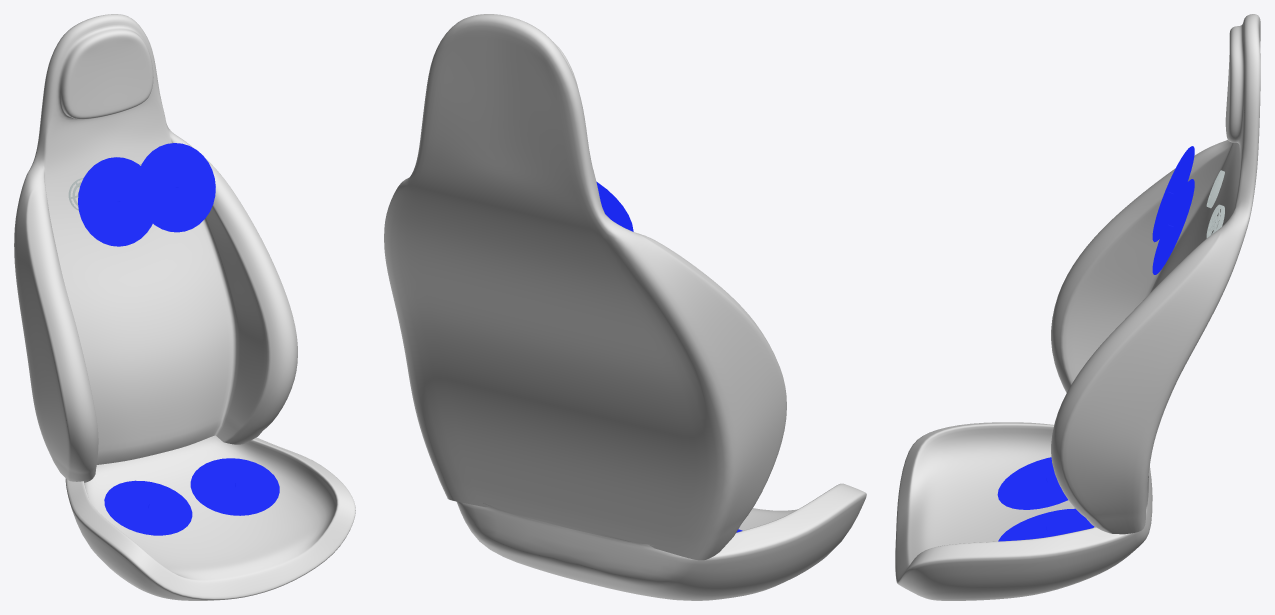
3 renders of one model, left to right at view 1: azimuth 30°, elevation 25°; view 2: azimuth 150°, elevation 25°; view 3: azimuth 270°, elevation 25°, orthographic. The views are drawn at different scales.
Parts seen in each view (by area): view 1: Plane001, 001, 圆环.004, 圆环.002, 圆环.008, 圆环.006, 圆环.003, 圆环.005; view 2: Plane001, 001, 圆环.002; view 3: Plane001, 001, 圆环.006, 圆环.008, 圆环.002, 圆环.004, 002.
Boxes of the visible parts, x1,y1,x2,y2 form: Plane001: (14, 14, 297, 482); 001: (65, 435, 355, 600); 圆环.004: (136, 143, 215, 232); 圆环.002: (78, 157, 157, 246); 圆环.008: (190, 458, 279, 515); 圆环.006: (104, 480, 192, 535); 圆环.003: (100, 182, 134, 209); 圆环.005: (159, 169, 192, 204); Plane001: (384, 14, 786, 560); 001: (457, 483, 866, 600); 圆环.002: (596, 181, 633, 231); Plane001: (1051, 14, 1260, 534); 001: (895, 422, 1152, 600); 圆环.006: (997, 457, 1067, 509); 圆环.008: (998, 508, 1094, 541); 圆环.002: (1152, 146, 1194, 242); 圆环.004: (1152, 179, 1194, 274); 002: (1206, 170, 1224, 238).
Size of the model in its own units: 22.38 by 42.35 by 25.67.
